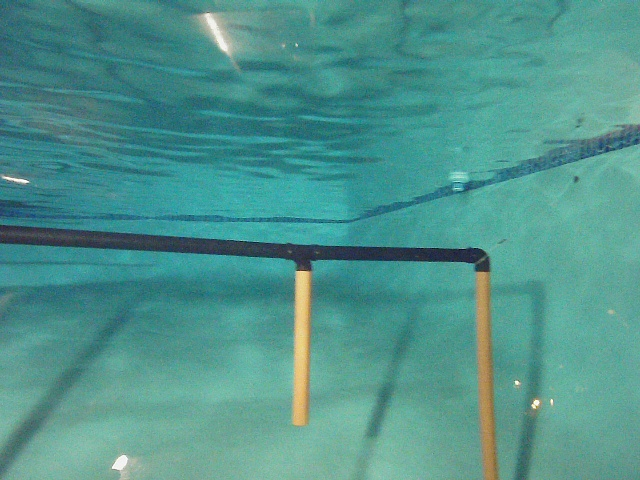Gate: (475, 267, 503, 480), (290, 266, 314, 430)
